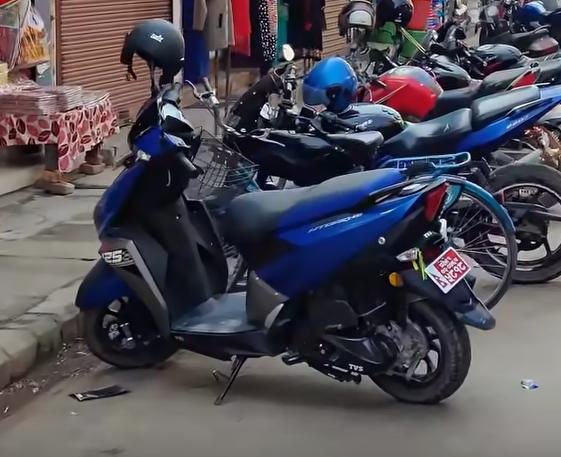scooter: (70, 87, 503, 401)
